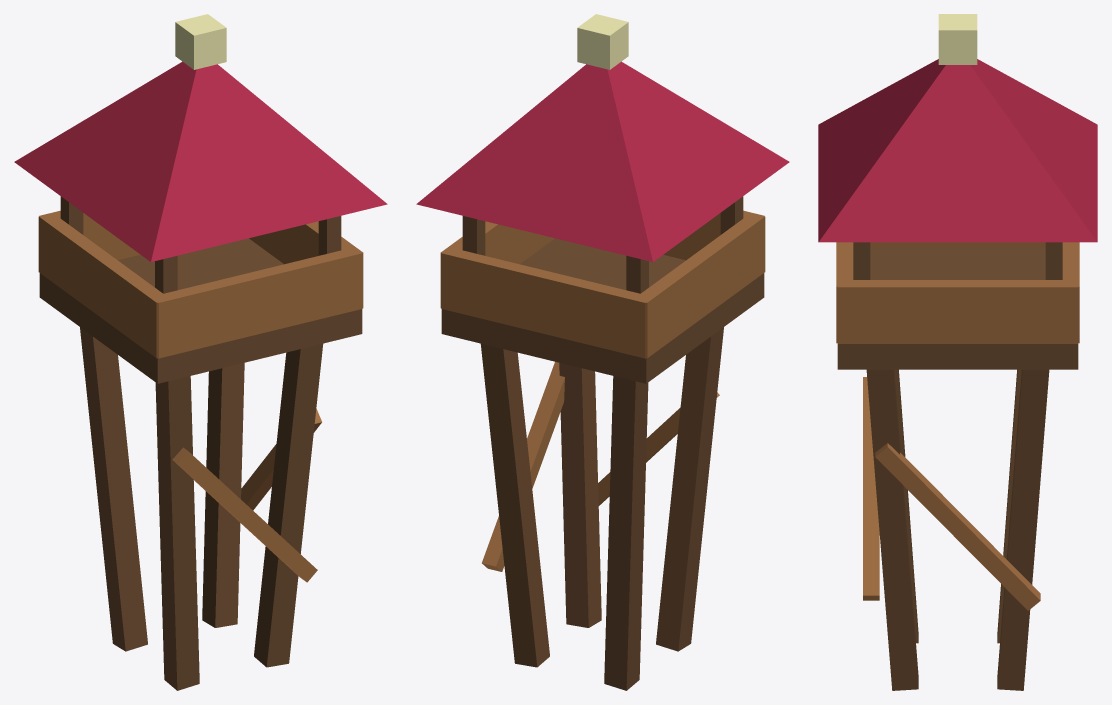
The model's file is lookout.glb.
3 views of the same model, side by side, from view 1: azimuth 30°, elevation 25°; view 2: azimuth 150°, elevation 25°; view 3: azimuth 270°, elevation 25° (orthographic).
Parts seen in each view (by area): view 1: Model; view 2: Model; view 3: Model.
Part boxes in pixels (bbox=[...]): Model: bbox=[14, 14, 387, 690]; Model: bbox=[416, 14, 789, 690]; Model: bbox=[818, 14, 1097, 690].
Bounding box in the file's own units: 1.16 × 2.94 × 1.16.
